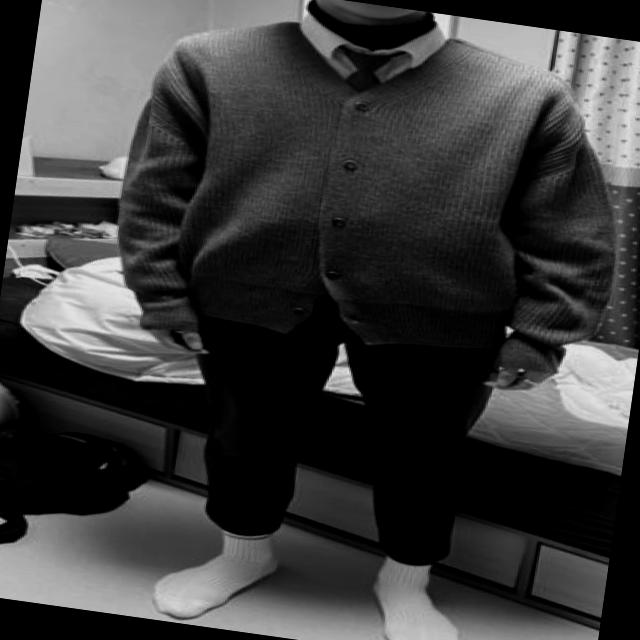cardigan: (103, 0, 640, 391)
denimpants: (168, 276, 496, 574)
